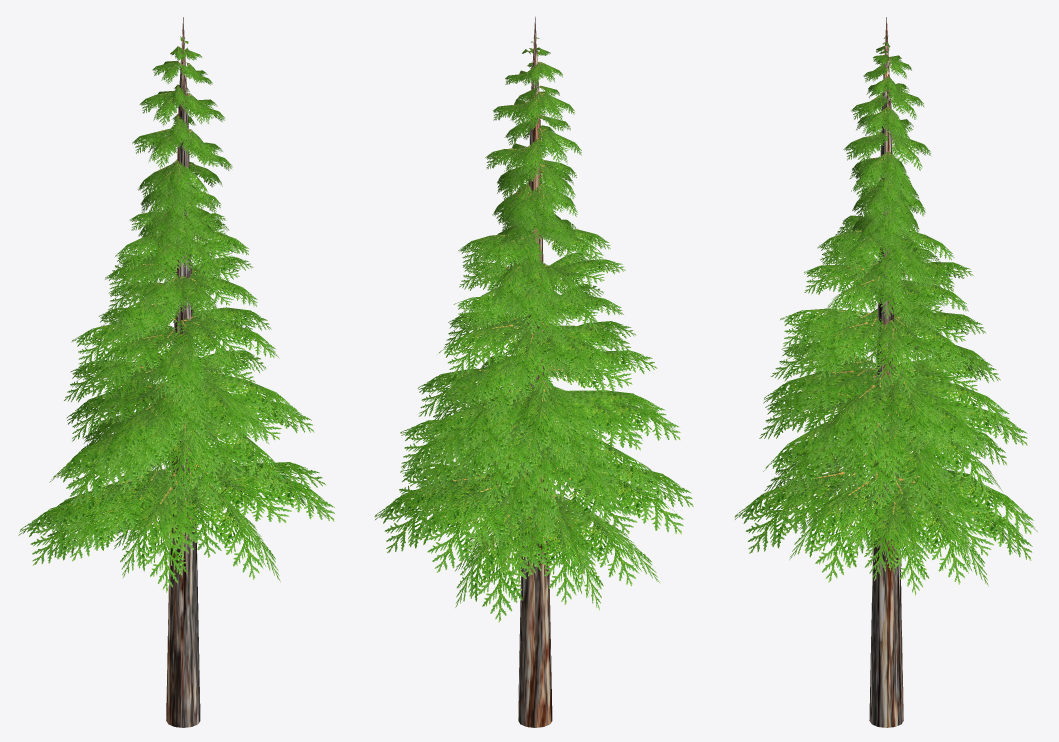
File: tree_conifer_04.glb
3 views of the same model, side by side, from view 1: azimuth 30°, elevation 25°; view 2: azimuth 150°, elevation 25°; view 3: azimuth 270°, elevation 25° (orthographic).
Visible parts, largest first — view 1: env; view 2: env; view 3: env.
Boxes of the visible parts, x1,y1,x2,y2 form: env: (18,17,334,727); env: (374,16,693,727); env: (734,17,1037,727).
Size of the model in its own units: 2.57 by 6 by 2.42.
1 material, 1 textured.
